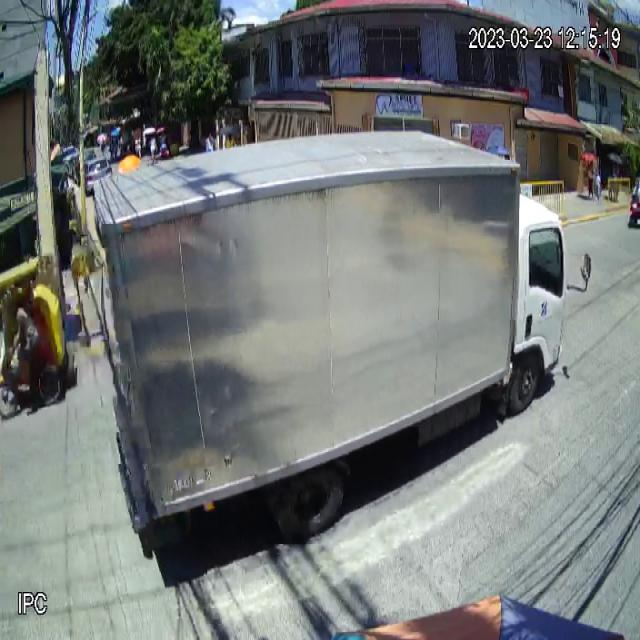Truck: (93, 128, 593, 538)
